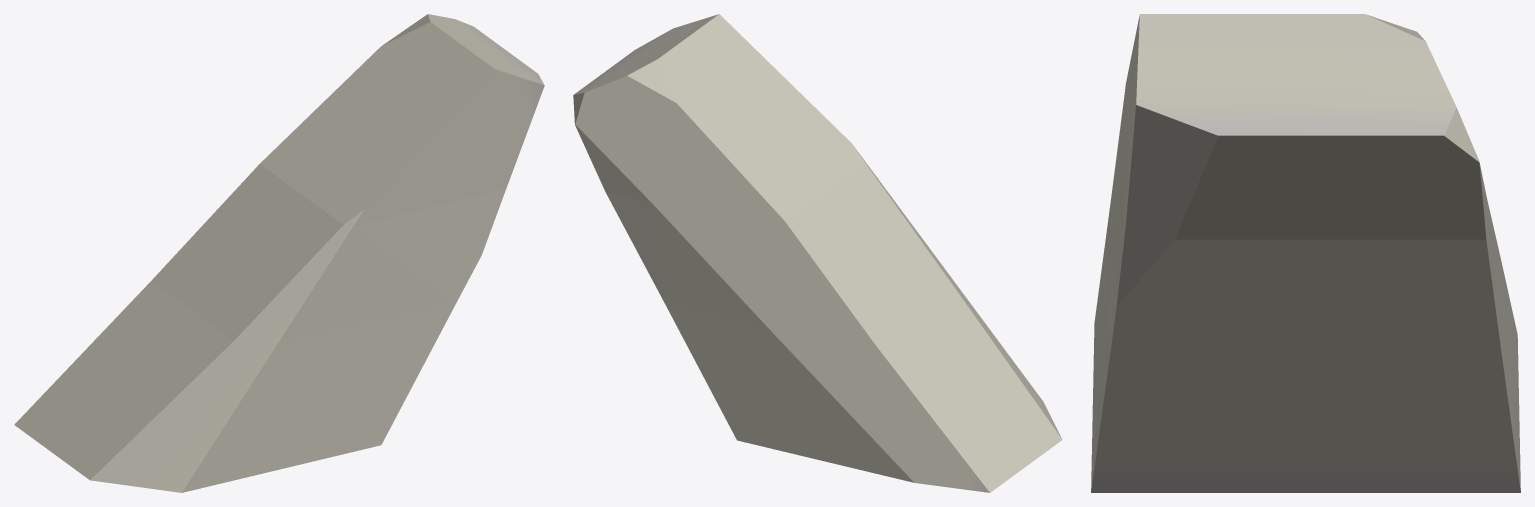
File: Rock_Square_l_04.fbx
3 views of the same model, side by side, from view 1: azimuth 30°, elevation 25°; view 2: azimuth 150°, elevation 25°; view 3: azimuth 270°, elevation 25° (orthographic). The views are drawn at different scales.
Parts seen in each view (by area): view 1: Rock_Square_l_04; view 2: Rock_Square_l_04; view 3: Rock_Square_l_04.
Part boxes in pixels (box(x1,y1,x2,y2)): Rock_Square_l_04: box(14, 14, 544, 492); Rock_Square_l_04: box(573, 14, 1062, 492); Rock_Square_l_04: box(1091, 14, 1520, 492).
Bounding box in the file's own units: 476 × 341 × 226.
